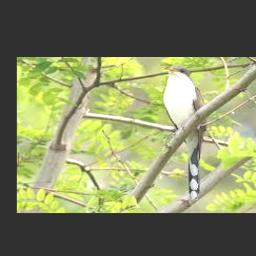Cuckoo: (161, 67, 206, 200)
